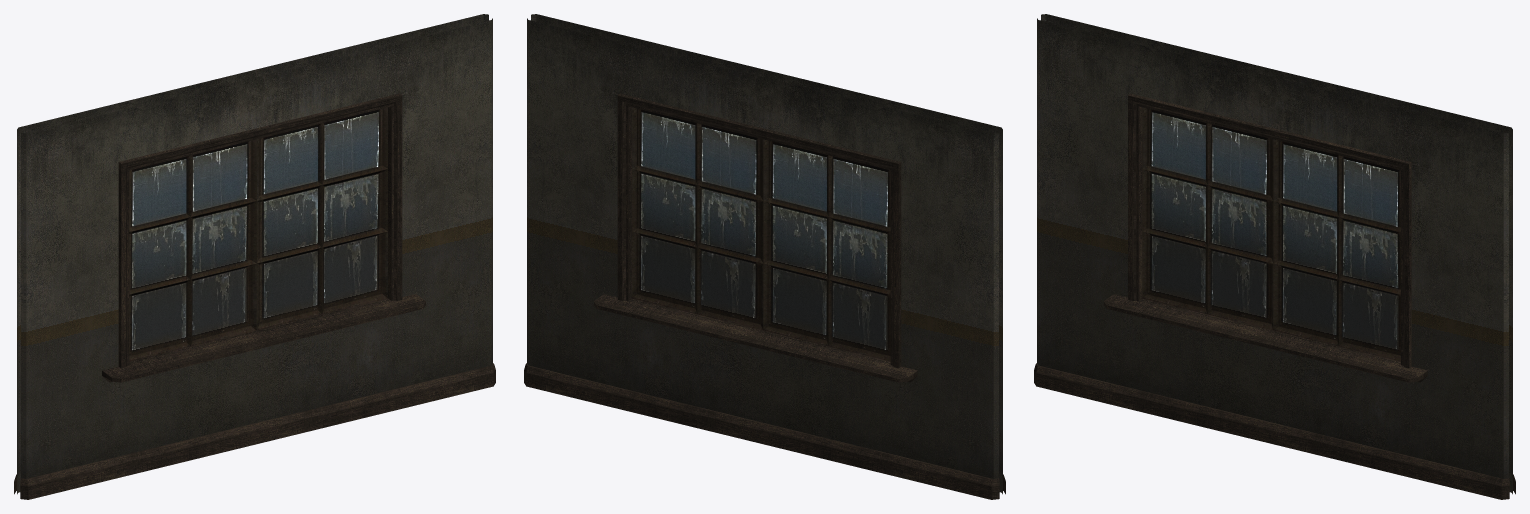
Rendered from window_2_double.glb.
The picture shows the model from 3 angles, left to right: view 1: azimuth 30°, elevation 25°; view 2: azimuth 150°, elevation 25°; view 3: azimuth 330°, elevation 25°; orthographic projection.
Parts seen in each view (by area): view 1: window_2_double; view 2: window_2_double; view 3: window_2_double.
Boxes of the visible parts, x1,y1,x2,y2 form: window_2_double: [14, 14, 495, 499]; window_2_double: [524, 14, 1005, 499]; window_2_double: [1034, 14, 1515, 499].
Bounding box in the file's own units: 4.09 × 3 × 0.52.
Materials: 3 (3 with a texture image).
